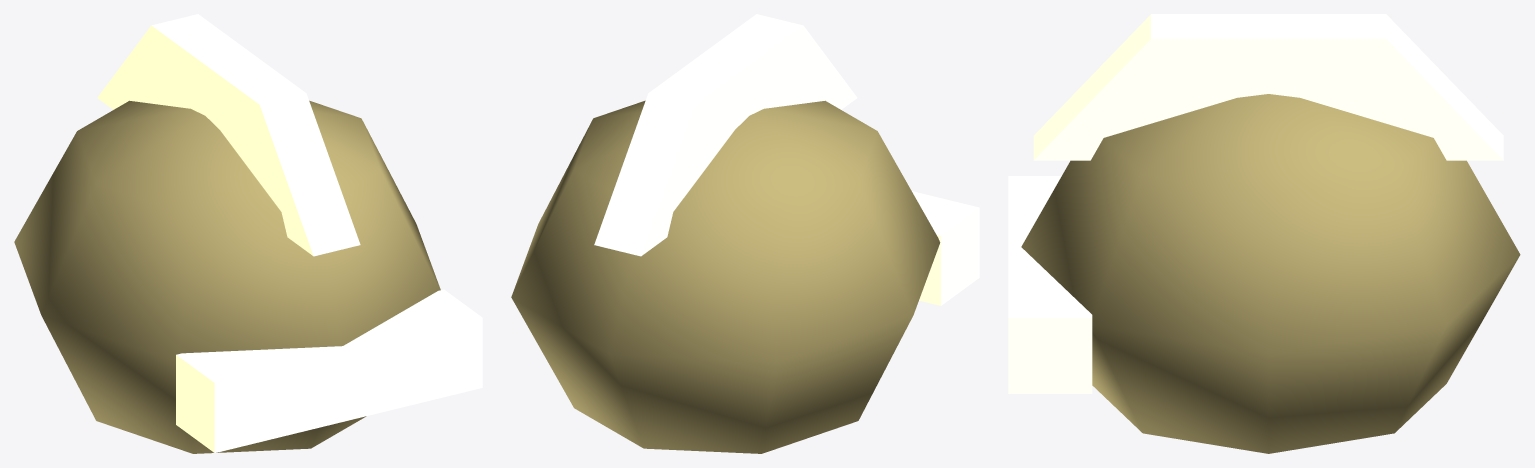
Rendered from dc_abs_helm.glb.
3 renders of one model, left to right at view 1: azimuth 30°, elevation 25°; view 2: azimuth 150°, elevation 25°; view 3: azimuth 270°, elevation 25°, orthographic. The views are drawn at different scales.
Parts seen in each view (by area): view 1: part.dc_abs_helm; view 2: part.dc_abs_helm; view 3: part.dc_abs_helm.
Part boxes in pixels (x1=…): part.dc_abs_helm: x1=14, y1=14, x2=482, y2=453; part.dc_abs_helm: x1=511, y1=14, x2=979, y2=453; part.dc_abs_helm: x1=1008, y1=14, x2=1520, y2=453.
Size of the model in its own units: 0.28 by 0.27 by 0.305.
